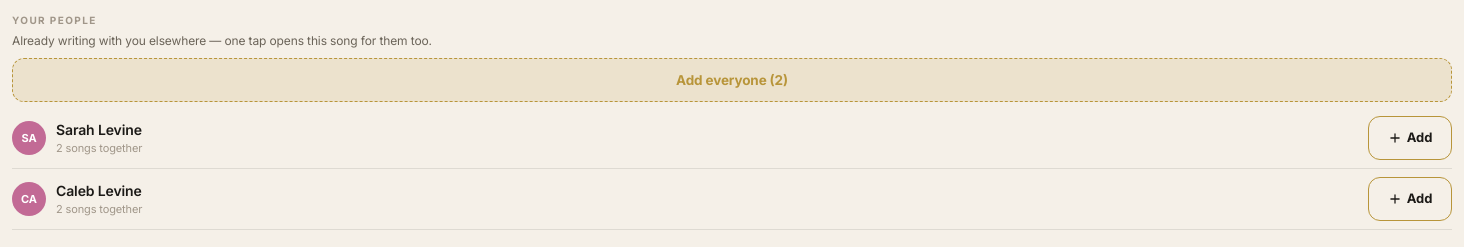
Test case: AddYourPeople — the band, one tap each › adds one person on tap and flips their button to In
This screenshot has width=1464, height=247.
Click the button with aria-label "add sarah to this song" at (1410, 138), box 1368,116 -> 1452,160
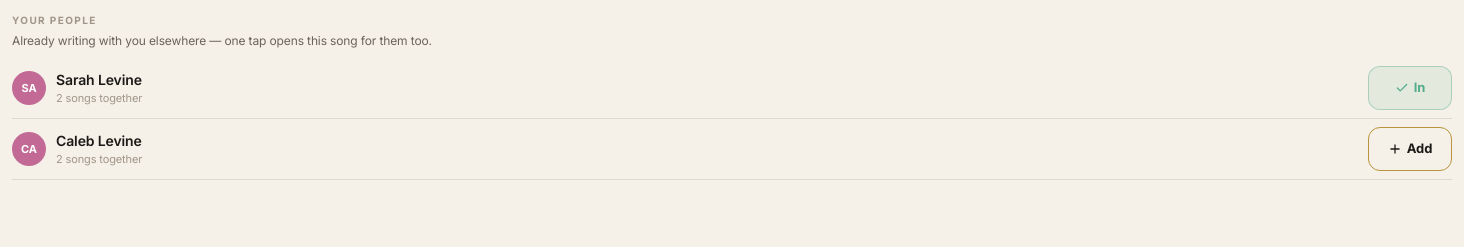
Expected: the button with aria-label "sarah is in this song" is disabled, 1368,66 -> 1452,110
